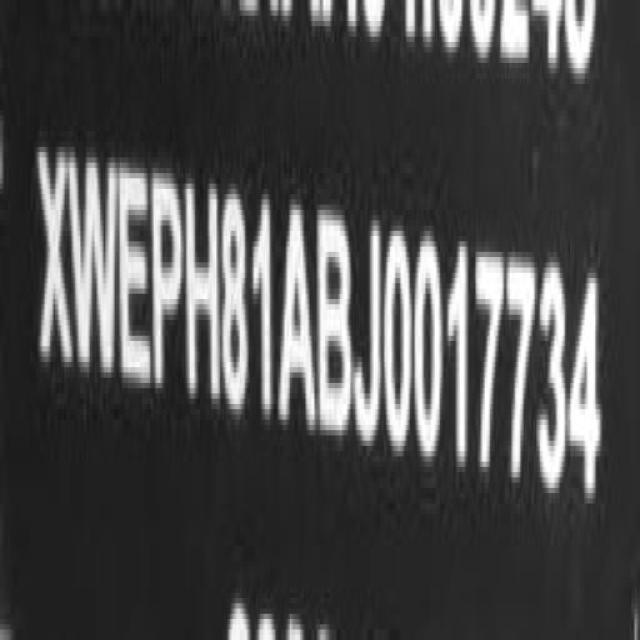0: (414, 228, 443, 474), (384, 214, 412, 461)
1: (447, 231, 472, 484), (254, 183, 278, 433)
3: (538, 262, 571, 502)
4: (571, 266, 604, 510)
7: (507, 243, 537, 494), (474, 239, 504, 488)
8: (220, 183, 250, 424)
A: (278, 200, 318, 443)
B: (316, 198, 354, 446)
E: (118, 153, 154, 399)
H: (188, 168, 223, 411)
J: (353, 218, 385, 454)
P: (152, 164, 185, 404)
W: (71, 138, 120, 396)
X: (34, 132, 71, 388)
